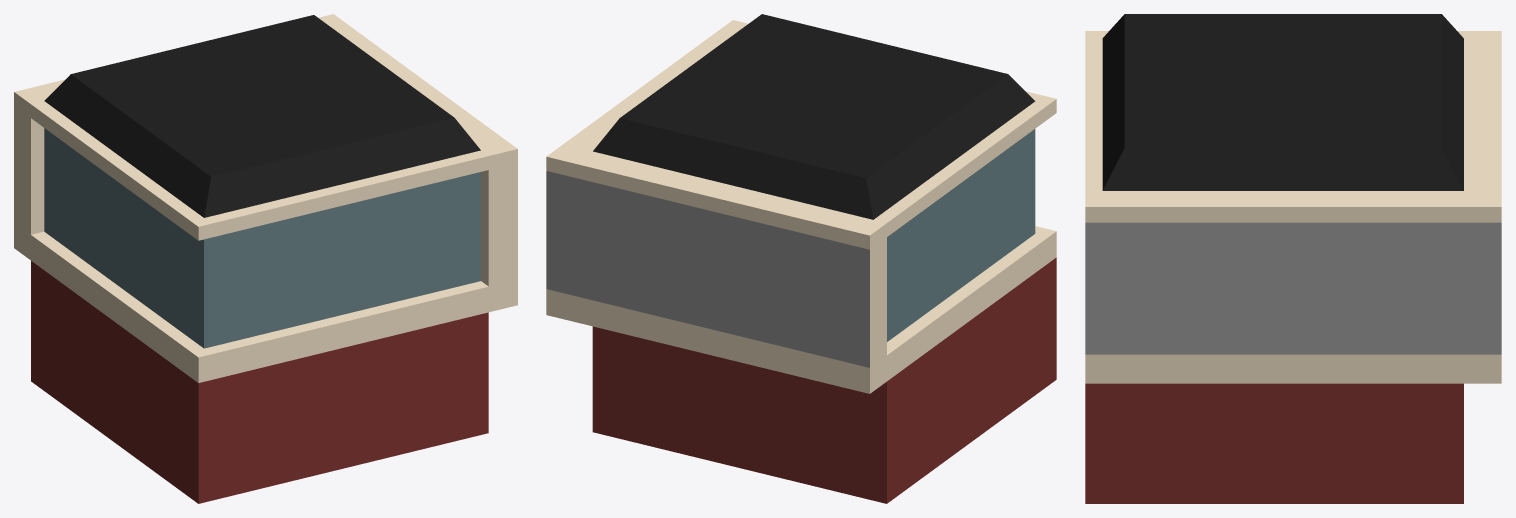
File: modernHouse1.glb
The picture shows the model from 3 angles, left to right: view 1: azimuth 30°, elevation 25°; view 2: azimuth 150°, elevation 25°; view 3: azimuth 270°, elevation 25°; orthographic projection. The views are drawn at different scales.
Parts seen in each view (by area): view 1: Plane; view 2: Plane; view 3: Plane.
Boxes of the visible parts, box(x1,y1,x2,y2) form: Plane: box(14, 14, 517, 503); Plane: box(546, 14, 1056, 503); Plane: box(1085, 14, 1501, 503).
Size of the model in its own units: 2.2 by 2.02 by 2.2.
1 material, 1 textured.
